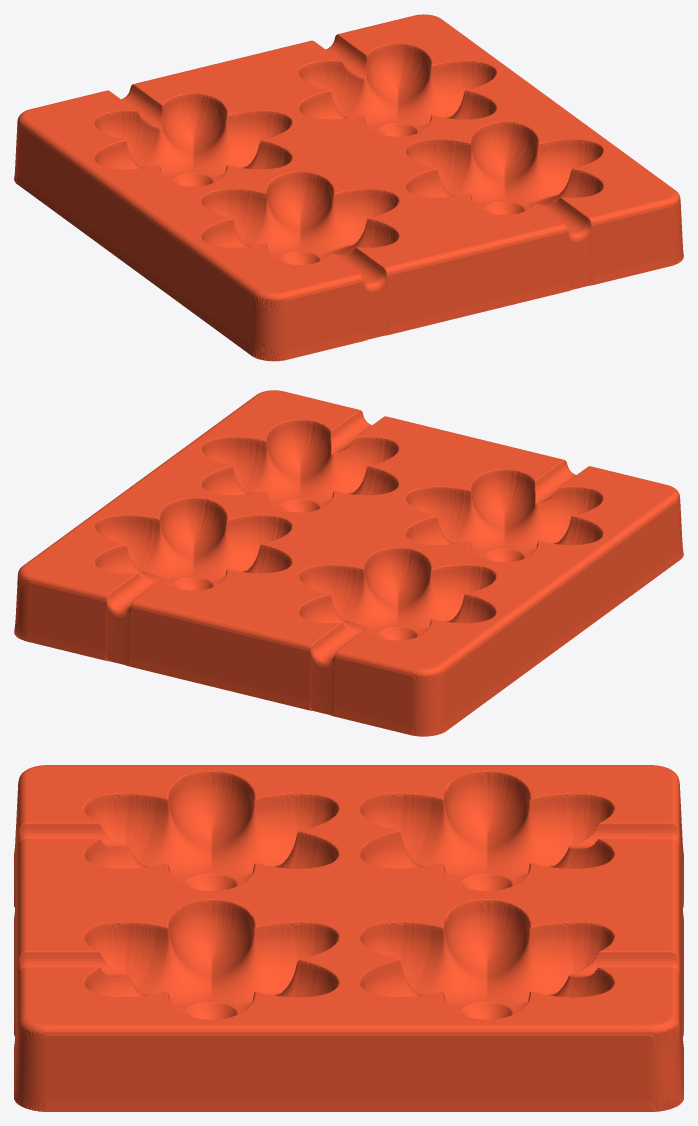
Rendered from mold.glb.
3 renders of one model, top to bottom at view 1: azimuth 30°, elevation 25°; view 2: azimuth 150°, elevation 25°; view 3: azimuth 270°, elevation 25°, orthographic. The views are drawn at different scales.
Visible parts, largest first — view 1: geometry_0; view 2: geometry_0; view 3: geometry_0.
Boxes of the visible parts, <box> form: geometry_0: <box>14,14,683,361</box>; geometry_0: <box>14,390,683,736</box>; geometry_0: <box>14,765,683,1111</box>.
Bounding box in the file's own units: 0.1726 × 0.0245 × 0.1813.
